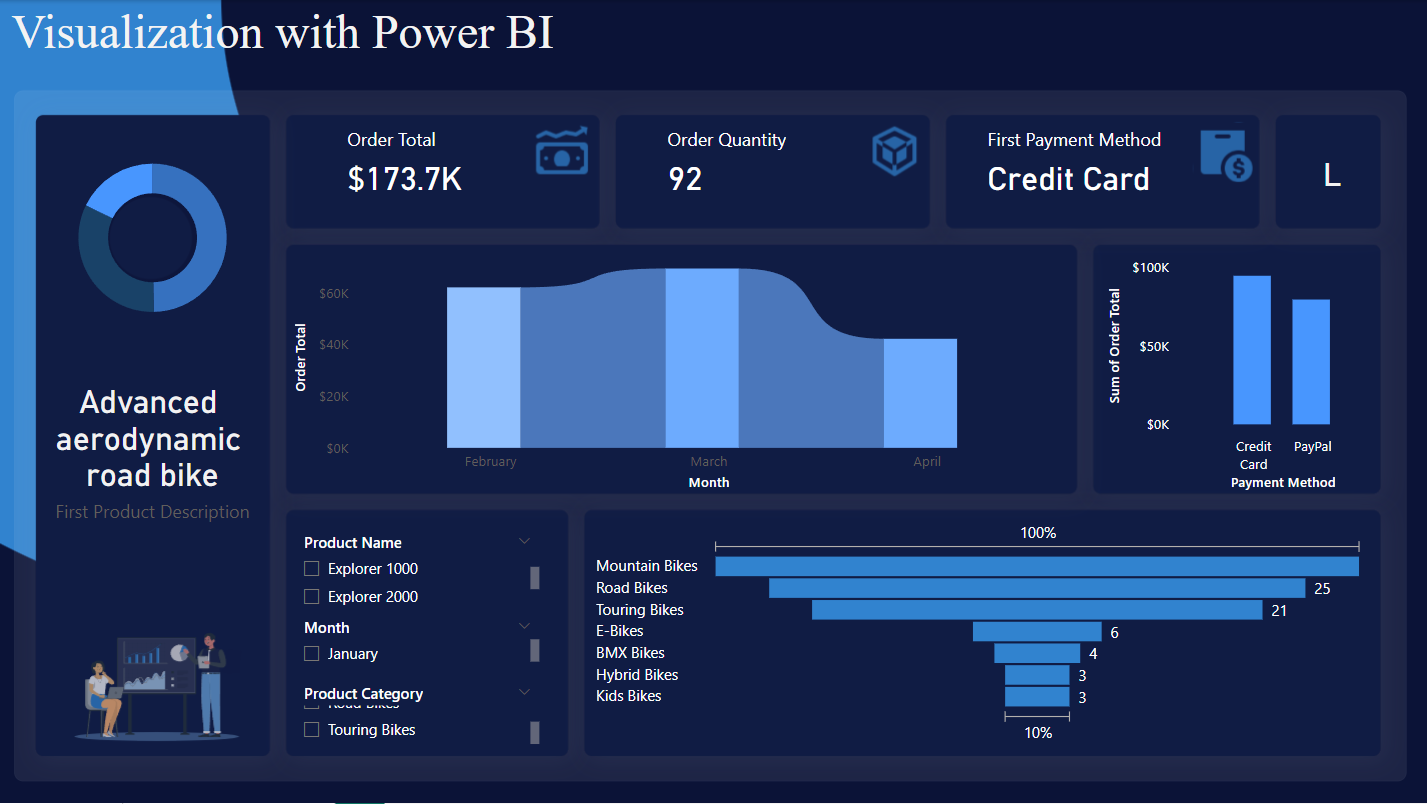

The dashboard page shown, as its layout file describes it:
{"tool":"powerbi","page":{"name":"Page 1","canvas":[1280,720],"ordinal":0},"visuals":[{"type":"donutChart","fields":{"Y":["Sum(Sales.Order Total)"],"Category":["Sales.Order Status"]},"box":[51.2,109.3,175.6,208.1],"z":0},{"type":"cardVisual","fields":{"Data":["Sum(Sales.Order Total)","Sum(Sales.Order Quantity)","Min(Sales.Payment Method)"]},"box":[295.3,97.7,861.6,91.9],"z":1000},{"type":"ribbonChart","fields":{"Category":["Sales.DueDate.Variation.Date Hierarchy.Month"],"Y":["Sum(Sales.Order Total)"]},"box":[261.6,225.6,691.9,218.6],"z":2000},{"type":"columnChart","fields":{"Category":["Sales.Payment Method"],"Y":["Sum(Sales.Order Total)"]},"box":[988.4,225.6,258.1,218.6],"z":3000},{"type":"funnel","fields":{"Y":["Sum(Sales.Order Quantity)"],"Category":["Sales.Product Category"]},"box":[530.2,461.6,696.5,208.1],"z":4000},{"type":"card","fields":{"Values":["Min(Sales.Product Description)"]},"box":[25.7,276.9,226.7,247.9],"z":5000},{"type":"slicer","fields":{"Values":["Sales.Product Name"]},"box":[261.6,470.9,227.9,76.7],"z":6000},{"type":"card","fields":{"Values":["Min(Sales.Product Size)"]},"box":[1148.8,109.3,88.4,91.9],"z":7000},{"type":"slicer","fields":{"Values":["Sales.DueDate.Variation.Date Hierarchy.Month"]},"box":[261.6,547.7,227.9,58.1],"z":7001},{"type":"slicer","fields":{"Values":["Sales.Product Category"]},"box":[261.6,605.8,227.9,64],"z":7002},{"type":"textbox","box":[7.8,0,505.8,72.6],"z":7003}]}

Visuals, with their boxes in screenshot pixels (x1, y1, x2, y2), scaled from the page's 1280x720 canvas onto the 1427x804 screenshot:
donutChart - Sum(Sales.Order Total) x Sales.Order Status: <box>57,122,253,354</box>
cardVisual - Sum(Sales.Order Total) x Sum(Sales.Order Quantity): <box>329,109,1290,212</box>
ribbonChart - Sales.DueDate.Variation.Date Hierarchy.Month x Sum(Sales.Order Total): <box>292,252,1063,496</box>
columnChart - Sales.Payment Method x Sum(Sales.Order Total): <box>1102,252,1390,496</box>
funnel - Sum(Sales.Order Quantity) x Sales.Product Category: <box>591,515,1368,748</box>
card - Min(Sales.Product Description): <box>29,309,281,586</box>
slicer - Sales.Product Name: <box>292,526,546,611</box>
card - Min(Sales.Product Size): <box>1281,122,1379,225</box>
slicer - Sales.DueDate.Variation.Date Hierarchy.Month: <box>292,612,546,676</box>
slicer - Sales.Product Category: <box>292,676,546,748</box>
textbox: <box>9,0,573,81</box>
